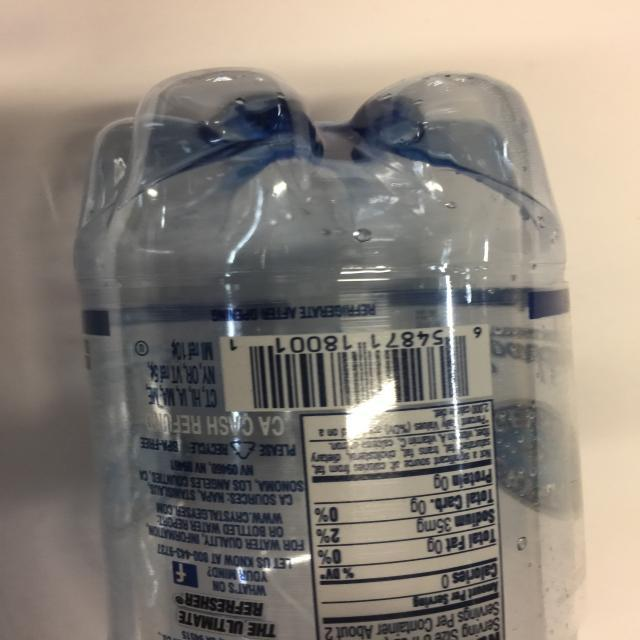plastic: (72, 63, 588, 640)
